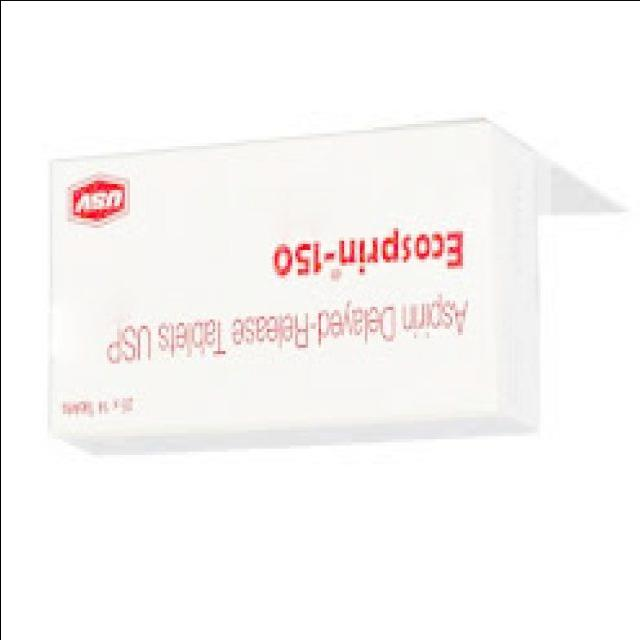authentic: (36, 121, 550, 458)
